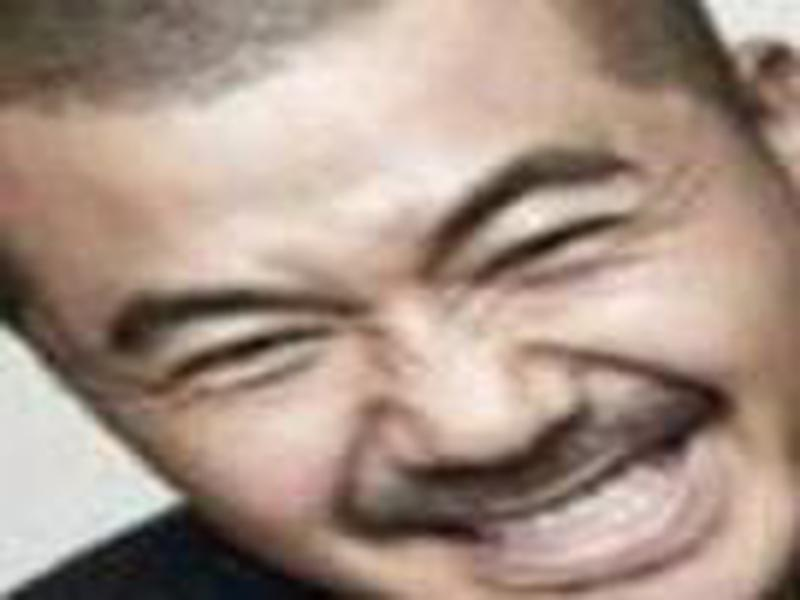without_mask: (1, 74, 800, 600)
